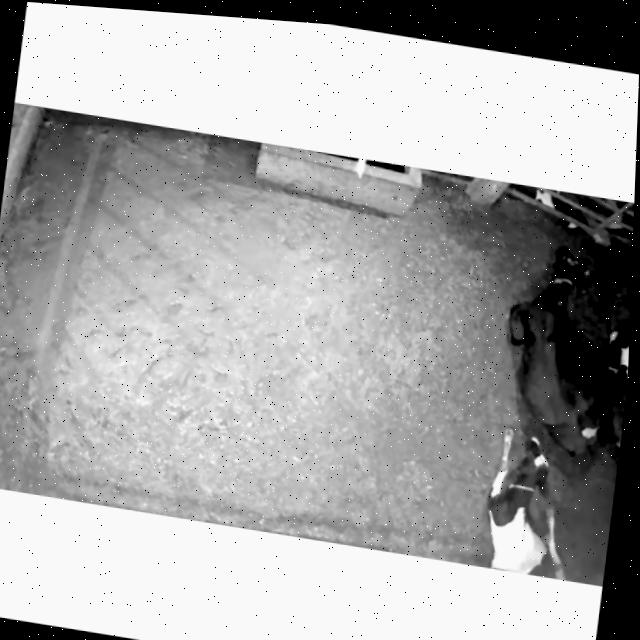lay: (471, 225, 630, 464), (446, 411, 603, 583), (589, 232, 633, 484)
